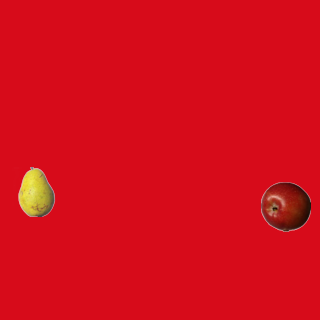Apple Braeburn: (260, 181, 310, 231)
Pear Monster: (11, 166, 61, 216)
